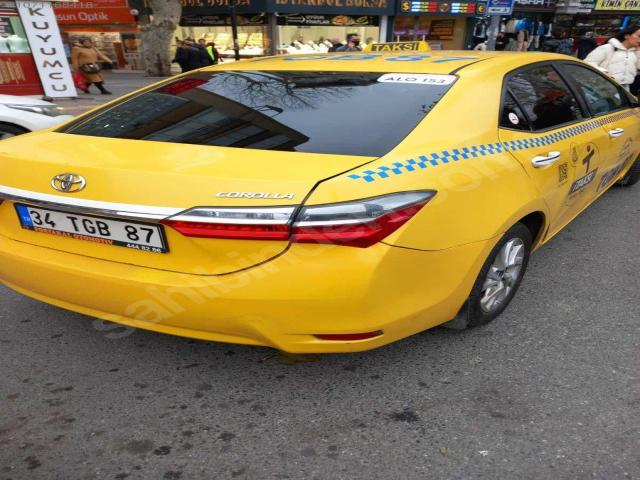plaka: (16, 204, 167, 253)
